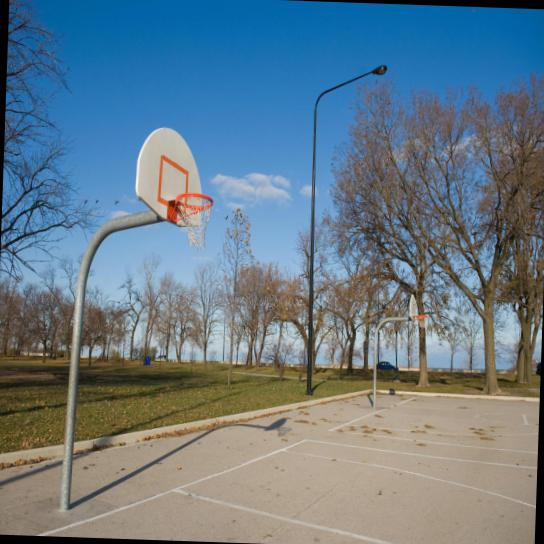basketball-hoop: (174, 190, 214, 253), (416, 314, 428, 329)
